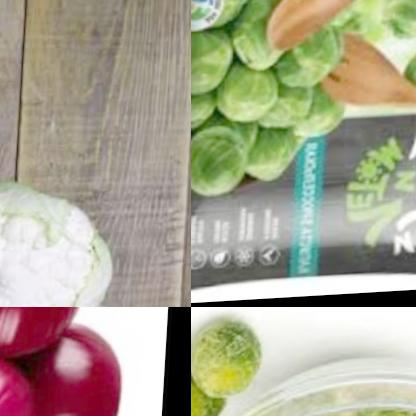brus capusta: (191, 0, 355, 198), (191, 378, 416, 416), (191, 322, 271, 416), (382, 0, 416, 50)
cayliflower: (0, 167, 126, 307)
onion: (0, 321, 137, 416), (0, 307, 92, 363), (0, 345, 60, 416)
